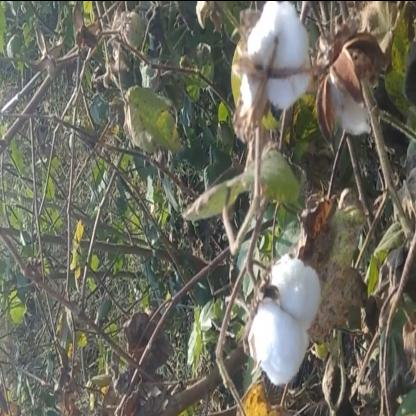cotton_ready: (242, 225, 331, 396)
